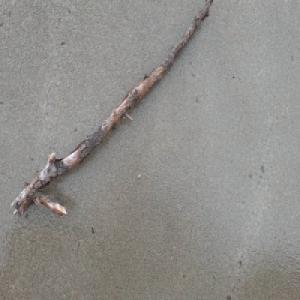Wood: (9, 0, 213, 219)
